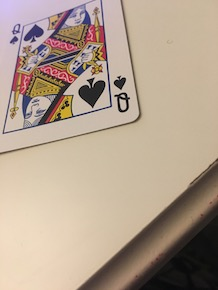QueenOfSpades: (1, 1, 144, 157)
